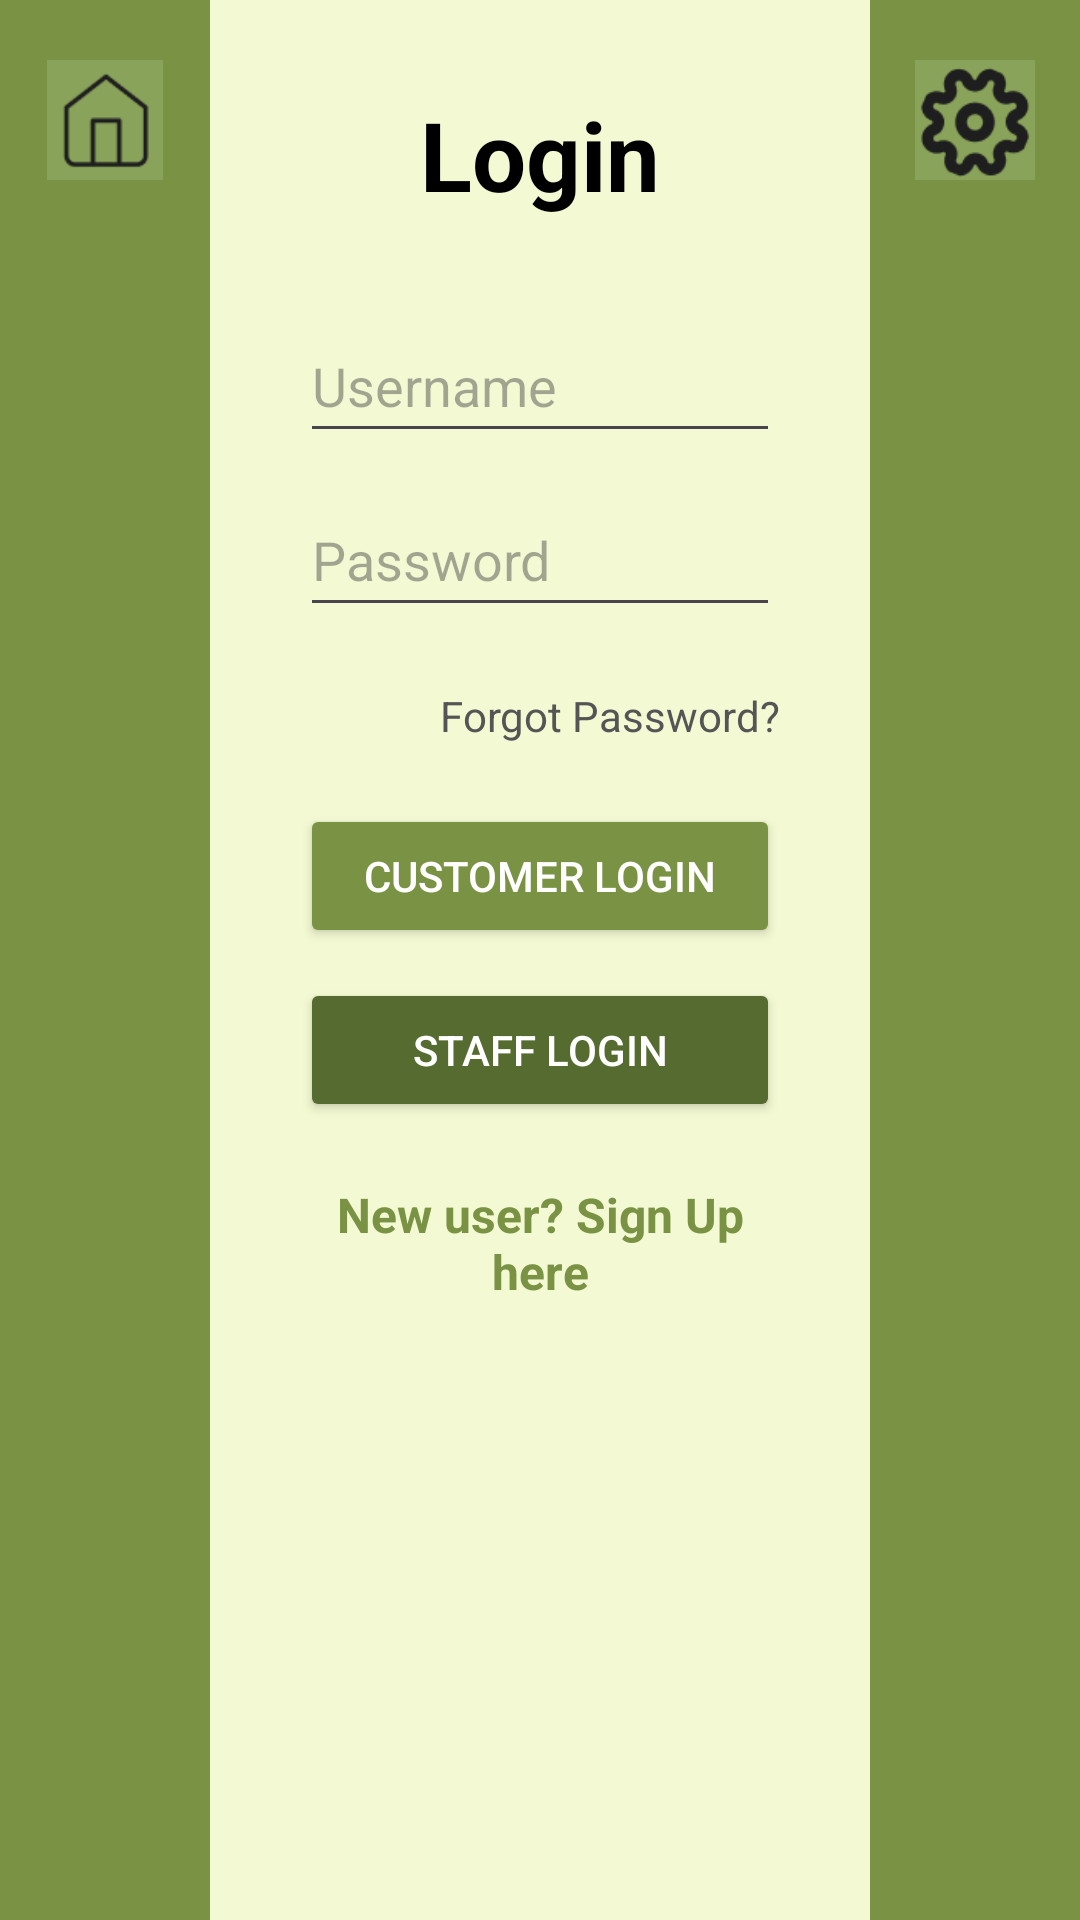

Where to tap for icons on this 1080×1920 app screen, as (x,y):
home: (105,120)
settings: (975,122)
